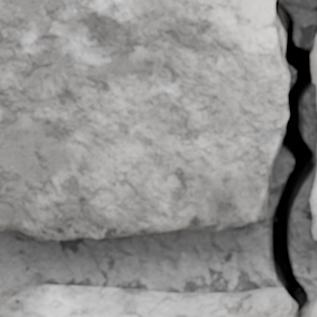brick: (0, 0, 289, 239), (310, 175, 316, 239), (314, 37, 316, 84)
broken_brick: (0, 284, 292, 316), (312, 308, 316, 316)
crack: (269, 0, 316, 316)
